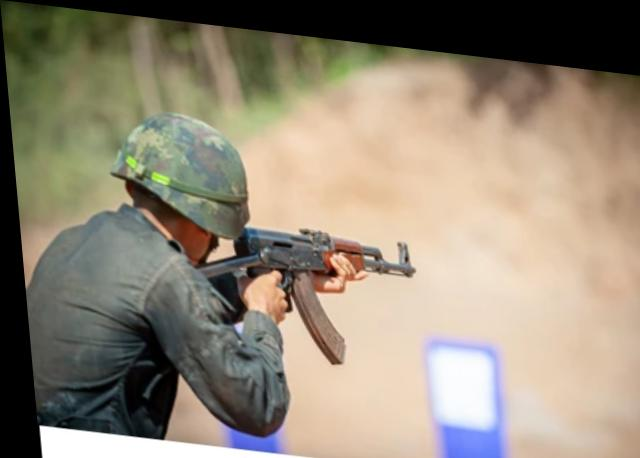other: (6, 91, 296, 451)
